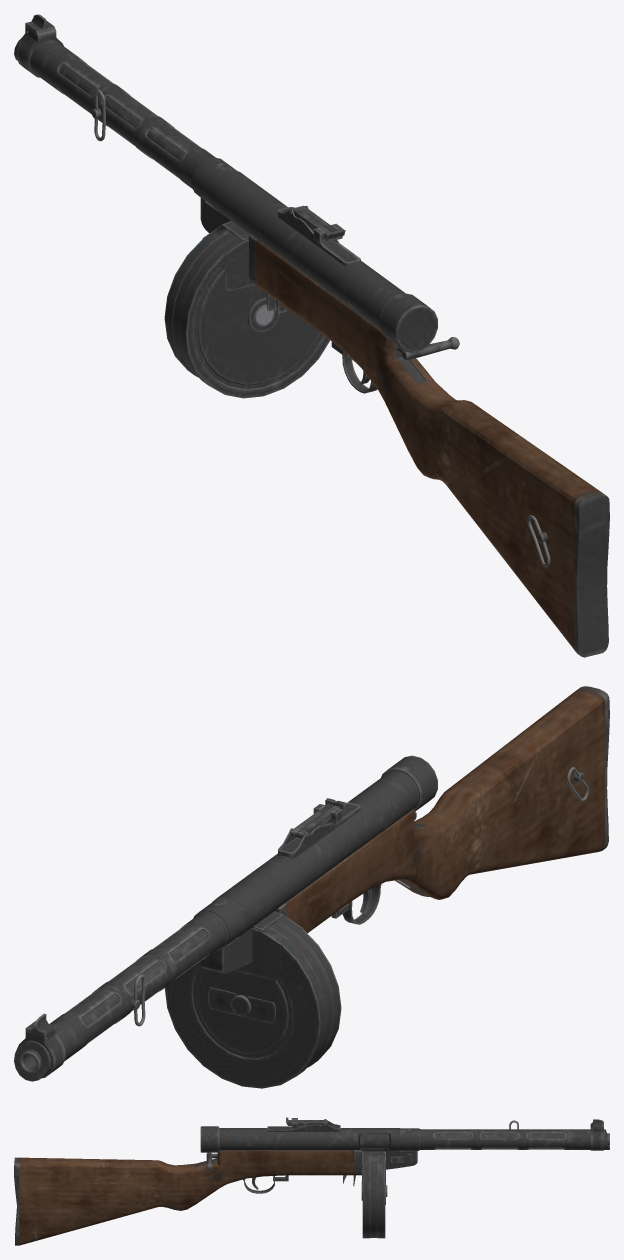
The model's file is g_suomi.glb.
3 views of the same model, one above another, from view 1: azimuth 30°, elevation 25°; view 2: azimuth 150°, elevation 25°; view 3: azimuth 270°, elevation 25° (orthographic). The views are drawn at different scales.
Visible parts, largest first — view 1: Body, Magazine; view 2: Body, Magazine; view 3: Body, Magazine, Ejector.
Part boxes in pixels (box(x1,y1,x2,y2)): Body: box(14, 14, 609, 657); Magazine: box(164, 221, 330, 398); Body: box(14, 686, 609, 1081); Magazine: box(164, 911, 341, 1088); Body: box(14, 1117, 609, 1245); Magazine: box(361, 1151, 387, 1238); Ejector: box(360, 1133, 389, 1147).
Bounding box in the file's own units: 0.1387 × 0.2003 × 0.8749.
Materials: 1 (1 with a texture image).
